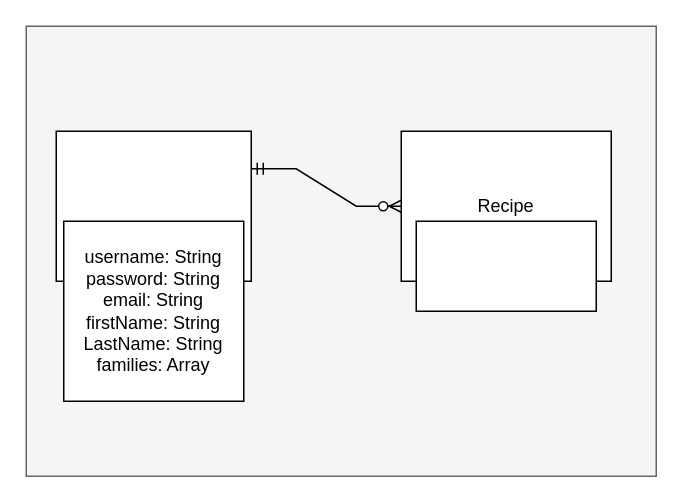
The diagram is 683 pixels wide and 503 high, and some of its shapes have lost their labels. The shapes that lost their labels are listed below. From the top down, each one's box as (x1, y1, x2, y2) in pixels, then its label:
(55, 130, 251, 281): User
(415, 220, 596, 311): creator: user._id ingredients: Array steps: Array access: Boolean
